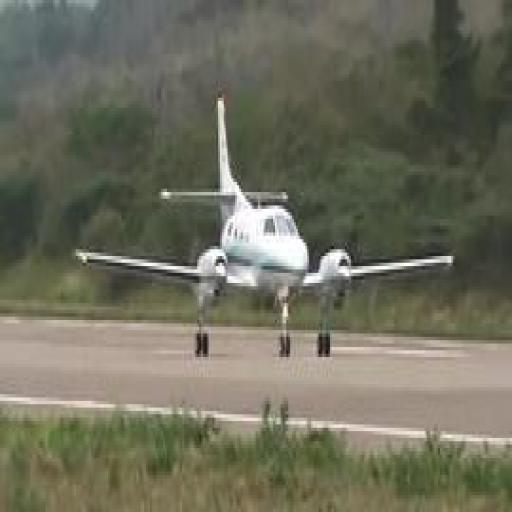aircraft: (75, 91, 456, 359)
